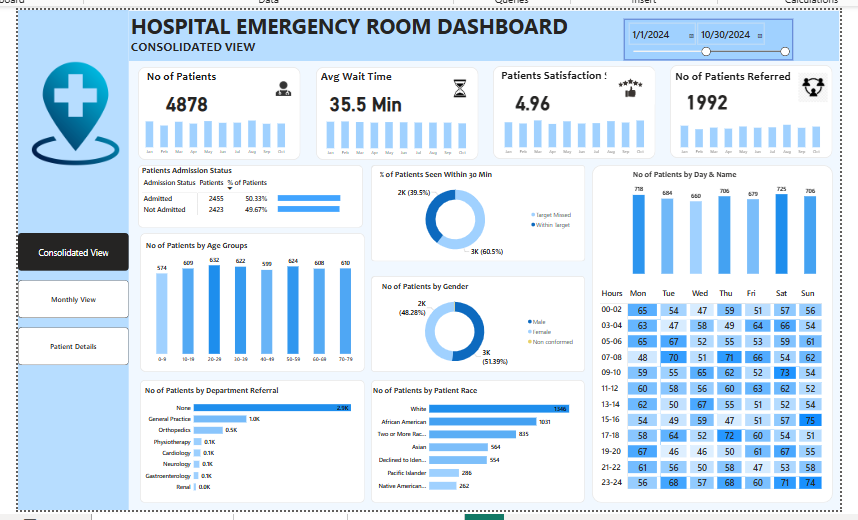

The dashboard page shown, as its layout file describes it:
{"tool":"powerbi","page":{"name":"Consolidated View","canvas":[2300,1400],"ordinal":0},"visuals":[{"type":"shape","box":[336.8,160.5,455,260.5],"z":0},{"type":"shape","box":[0,0,310,1400.5],"z":1000},{"type":"shape","box":[310.8,2.8,1988,140],"z":2000},{"type":"textbox","box":[310.9,0,1334.1,141.9],"z":3000},{"type":"textbox","box":[310.8,72.8,411.6,67.2],"z":4000},{"type":"card","fields":{"Values":["Hospital ER_Data.No of Patients"]},"box":[371.1,223.7,200,68.4],"z":5000},{"type":"slicer","fields":{"Values":["Date Table.Date"]},"box":[1696.8,25.2,473.2,114.8],"z":7000},{"type":"textbox","box":[355.3,160.5,276.3,63.2],"z":8000},{"type":"columnChart","fields":{"Y":["Hospital ER_Data.No of Patients"],"Category":["Date Table.Month Name"]},"box":[336,285.6,434,128.8],"z":9000},{"type":"shape","box":[833.3,160,455,260.5],"z":11000},{"type":"card","fields":{"Values":["Hospital ER_Data.Avg Wait Time"]},"box":[857.9,223.7,234.2,68.4],"z":12000},{"type":"textbox","box":[842.1,160.5,286.8,57.9],"z":13000},{"type":"columnChart","fields":{"Y":["Avg(Hospital ER_Data.Patient Waittime)"],"Category":["Date Table.Month Name"]},"box":[842.8,291.2,434,126],"z":14000},{"type":"shape","box":[1826.3,155.3,455,260.5],"z":15000},{"type":"card","fields":{"Values":["Hospital ER_Data.No of Patients Reffered"]},"box":[1828.9,218.4,200,68.4],"z":16000},{"type":"textbox","box":[1828.9,160.5,386.8,60.5],"z":17000},{"type":"columnChart","fields":{"Category":["Date Table.Month Name"],"Y":["Hospital ER_Data.No of Patients Reffered"]},"box":[1834,285.6,434,128.8],"z":18000},{"type":"shape","box":[1329.8,156.8,455,260.5],"z":19000},{"type":"card","fields":{"Values":["Hospital ER_Data.Satisfaction score"]},"box":[1341.1,220,200,68.4],"z":20000},{"type":"textbox","box":[1342.1,157.9,442.1,63.2],"z":21000},{"type":"columnChart","fields":{"Y":["Hospital ER_Data.Satisfaction score"],"Category":["Date Table.Month Name"]},"box":[1341.2,285.6,434,128.8],"z":22000},{"type":"shape","box":[336,434,630,176.4],"z":23000},{"type":"pivotTable","title":"Patients Admission Status","fields":{"Rows":["Hospital ER_Data.Admission Status"],"Values":["Hospital ER_Data.No of Patients","Divide(Hospital ER_Data.No of Patients, ScopedEval(Hospital ER_Data.No of Patients, []))"]},"box":[341.6,434,630,176.4],"z":24000},{"type":"barChart","fields":{"Y":["Hospital ER_Data.No of Patients"],"Category":["Hospital ER_Data.Admission Status"]},"box":[722.4,490,224,98],"z":25000},{"type":"shape","box":[341.8,624.9,630,389.2],"z":26000},{"type":"clusteredColumnChart","fields":{"Y":["Hospital ER_Data.No of Patients"],"Category":["Hospital ER_Data.Patient Age (groups)"]},"box":[352.6,645,616,352.8],"z":27000},{"type":"shape","box":[341.6,1036,630,344.4],"z":28000},{"type":"clusteredBarChart","fields":{"Category":["Hospital ER_Data.Department Referral"],"Y":["Hospital ER_Data.No of Patients"]},"box":[351.4,1051.4,613.5,313.5],"z":29000},{"type":"shape","box":[988.4,434,600,270],"z":30000},{"type":"donutChart","title":"% of Patients Seen Within 30 Min","fields":{"Category":["Hospital ER_Data.Waittime Status"],"Y":["Hospital ER_Data.No of Patients"]},"box":[1008,445.2,554.4,254.8],"z":31000},{"type":"shape","box":[988.4,744.8,599.2,268.8],"z":32000},{"type":"donutChart","title":"No of Patients by Gender","fields":{"Y":["Hospital ER_Data.No of Patients"],"Category":["Hospital ER_Data.Patient Gender"]},"box":[1013.6,758.8,554.4,254.8],"z":33000},{"type":"shape","box":[988.4,1036,599.2,344.4],"z":34000},{"type":"clusteredBarChart","fields":{"Y":["Hospital ER_Data.No of Patients"],"Category":["Hospital ER_Data.Patient Race"]},"box":[988.4,1050,599.2,313.6],"z":35000},{"type":"shape","box":[1607.2,434,674.8,946.4],"z":36000},{"type":"pivotTable","fields":{"Rows":["Hospital ER_Data.Waittime Interval"],"Columns":["Date Table.Day Name"],"Values":["Hospital ER_Data.No of Patients"]},"box":[1624,772.8,644,590.8],"z":37000},{"type":"image","box":[716.8,187.6,53.2,64.4],"z":37001},{"type":"image","box":[1198.4,187.6,78.4,64.4],"z":37002},{"type":"image","box":[1624,165.2,182,103.6],"z":37003},{"type":"image","box":[2170,170.8,112,92.4],"z":37004},{"type":"image","box":[11.2,140,299.6,299.6],"z":37005},{"type":"clusteredColumnChart","fields":{"Y":["Hospital ER_Data.No of Patients"],"Category":["Date Table.Day Name"]},"box":[1716.4,445.2,526.4,299.6],"z":37006},{"type":"pageNavigator","box":[0,624.4,310.8,372.4],"z":37007}]}

Visuals, with their boxes on the page's 2300x1400 design canvas (x1, y1, x2, y2). These are canvas units, not pixel positions in the 858x520 screenshot, which may show the page scaled, cropped or inside an application window:
shape: [337,160,792,421]
shape: [0,0,310,1400]
shape: [311,3,2299,143]
textbox: [311,0,1645,142]
textbox: [311,73,722,140]
card - Hospital ER_Data.No of Patients: [371,224,571,292]
slicer - Date Table.Date: [1697,25,2170,140]
textbox: [355,160,632,224]
columnChart - Hospital ER_Data.No of Patients x Date Table.Month Name: [336,286,770,414]
shape: [833,160,1288,420]
card - Hospital ER_Data.Avg Wait Time: [858,224,1092,292]
textbox: [842,160,1129,218]
columnChart - Avg(Hospital ER_Data.Patient Waittime) x Date Table.Month Name: [843,291,1277,417]
shape: [1826,155,2281,416]
card - Hospital ER_Data.No of Patients Reffered: [1829,218,2029,287]
textbox: [1829,160,2216,221]
columnChart - Date Table.Month Name x Hospital ER_Data.No of Patients Reffered: [1834,286,2268,414]
shape: [1330,157,1785,417]
card - Hospital ER_Data.Satisfaction score: [1341,220,1541,288]
textbox: [1342,158,1784,221]
columnChart - Hospital ER_Data.Satisfaction score x Date Table.Month Name: [1341,286,1775,414]
shape: [336,434,966,610]
"Patients Admission Status" pivotTable: [342,434,972,610]
barChart - Hospital ER_Data.No of Patients x Hospital ER_Data.Admission Status: [722,490,946,588]
shape: [342,625,972,1014]
clusteredColumnChart - Hospital ER_Data.No of Patients x Hospital ER_Data.Patient Age (groups): [353,645,969,998]
shape: [342,1036,972,1380]
clusteredBarChart - Hospital ER_Data.Department Referral x Hospital ER_Data.No of Patients: [351,1051,965,1365]
shape: [988,434,1588,704]
"% of Patients Seen Within 30 Min" donutChart: [1008,445,1562,700]
shape: [988,745,1588,1014]
"No of Patients by Gender" donutChart: [1014,759,1568,1014]
shape: [988,1036,1588,1380]
clusteredBarChart - Hospital ER_Data.No of Patients x Hospital ER_Data.Patient Race: [988,1050,1588,1364]
shape: [1607,434,2282,1380]
pivotTable - Hospital ER_Data.Waittime Interval x Date Table.Day Name: [1624,773,2268,1364]
image: [717,188,770,252]
image: [1198,188,1277,252]
image: [1624,165,1806,269]
image: [2170,171,2282,263]
image: [11,140,311,440]
clusteredColumnChart - Hospital ER_Data.No of Patients x Date Table.Day Name: [1716,445,2243,745]
pageNavigator: [0,624,311,997]
